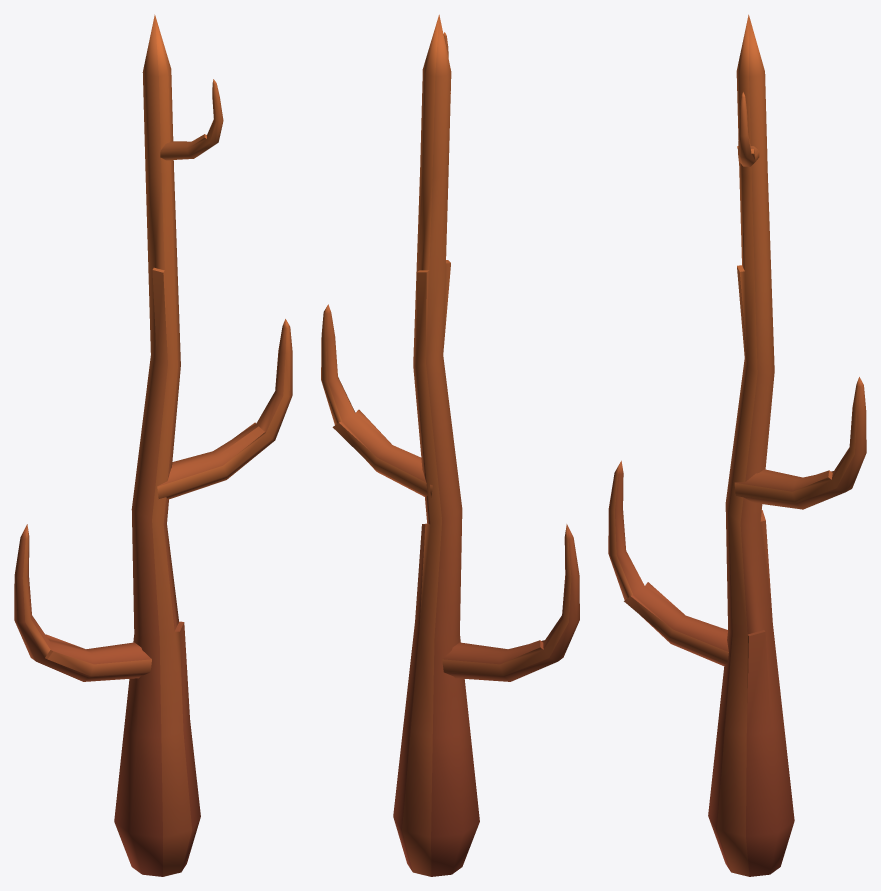
The model's file is Tree_Bare_2_B_Color1.glb.
3 renders of one model, left to right at view 1: azimuth 30°, elevation 25°; view 2: azimuth 150°, elevation 25°; view 3: azimuth 330°, elevation 25°, orthographic.
Visible parts, largest first — view 1: Tree_Bare_2_B_Color1; view 2: Tree_Bare_2_B_Color1; view 3: Tree_Bare_2_B_Color1.
Part boxes in pixels (bbox=[...]): Tree_Bare_2_B_Color1: bbox=[14, 14, 292, 876]; Tree_Bare_2_B_Color1: bbox=[321, 14, 579, 876]; Tree_Bare_2_B_Color1: bbox=[608, 14, 866, 876].
Size of the model in its own units: 1.79 by 5.54 by 0.6639.
Materials: 1 (1 with a texture image).
